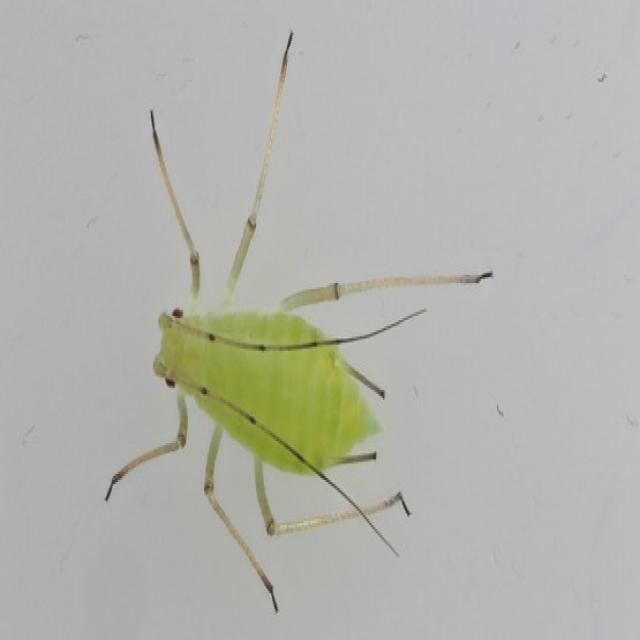Aphid-Grown-: (96, 120, 437, 527)
